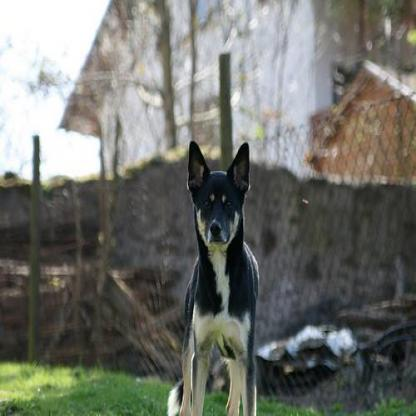Appenzeller: (166, 140, 260, 412)
